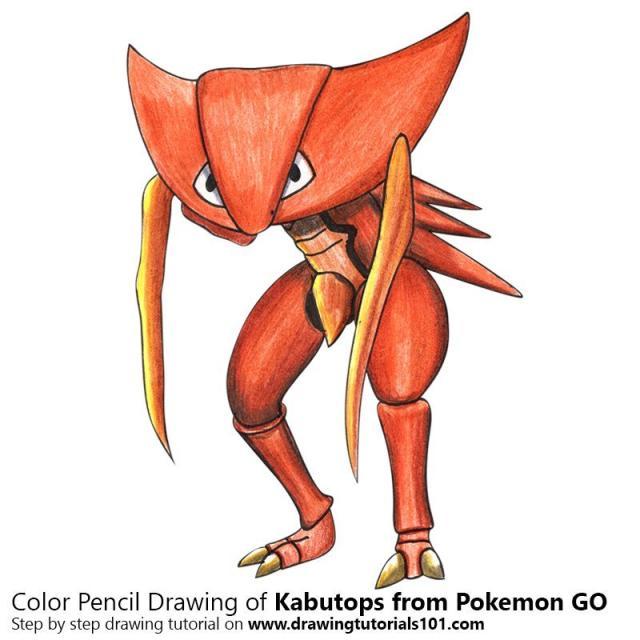Kabutops: (126, 14, 471, 584)
